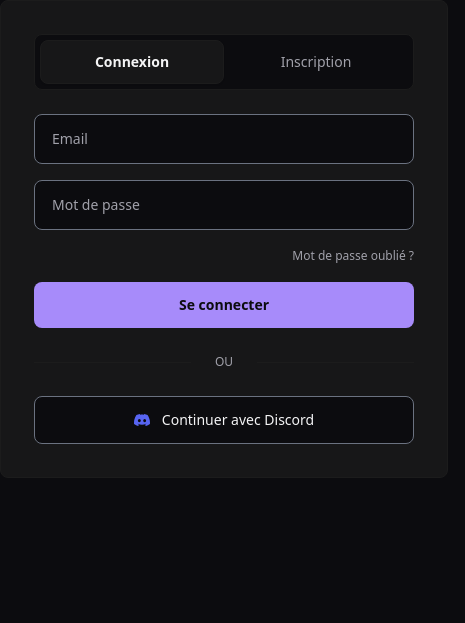
Test: AuthPanel › erreurs accessibles (RGAA 3.1 / 7.4 / 11.10) › bloque l'inscription et alerte si les mots de passe diffèrent, sans appel réseau
The image size is (465, 623).
Click the tab "Inscription".
click(316, 62)  # box top-left (224, 40), bottom-right (408, 84)
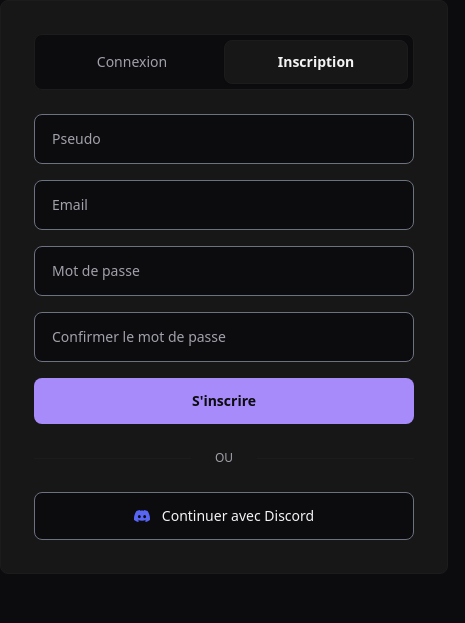
Type "Alex" into the field with id "signup-pseudo".
click(224, 139); type("Alex")  # box top-left (34, 114), bottom-right (414, 164)
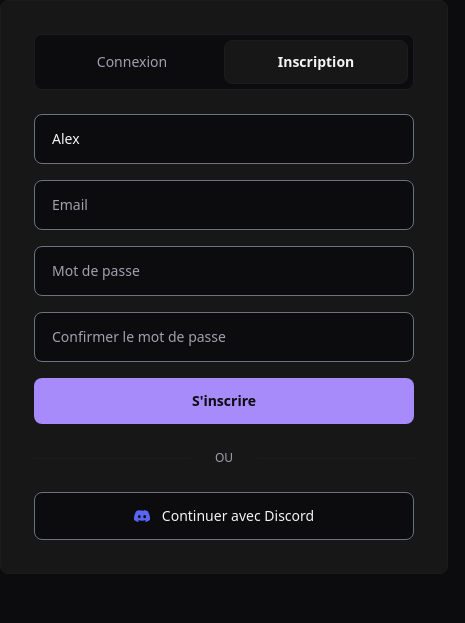
Type "alex@battlemind.gg" into the field with id "signup-email".
click(224, 205); type("alex@battlemind.gg")  # box top-left (34, 180), bottom-right (414, 230)
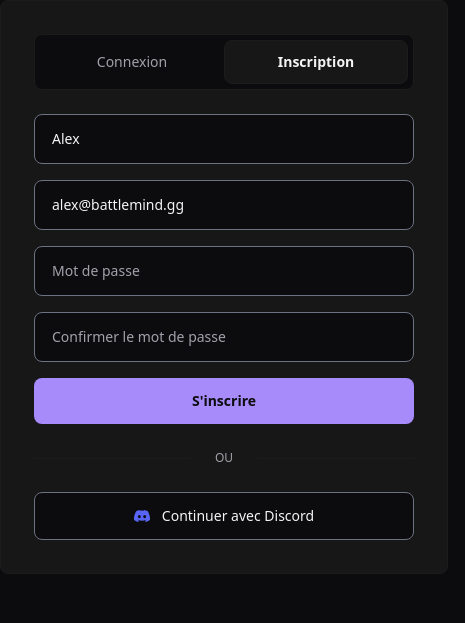
Type "secret123" into the password field with id "signup-password".
click(224, 271); type("secret123")  # box top-left (34, 246), bottom-right (414, 296)
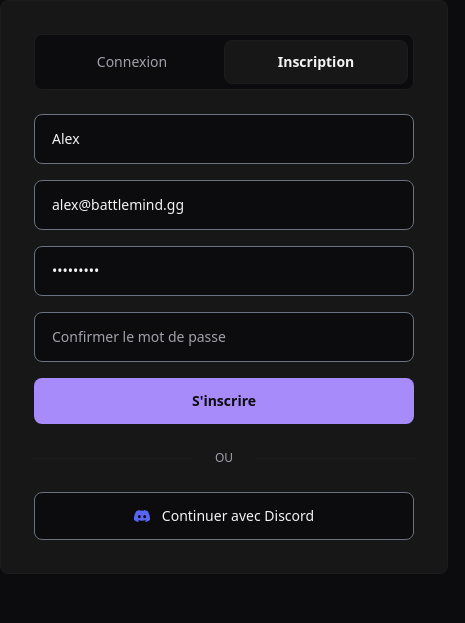
Type "secret124" into the password field with id "signup-password-confirm".
click(224, 337); type("secret124")  # box top-left (34, 312), bottom-right (414, 362)
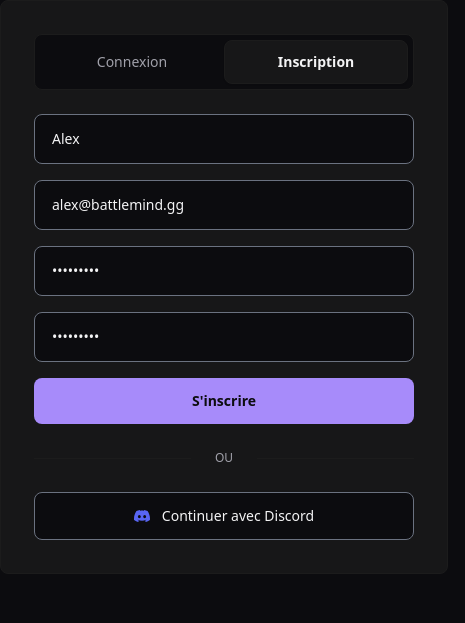
Submit the panel, box top-left (34, 114), bottom-right (414, 424)
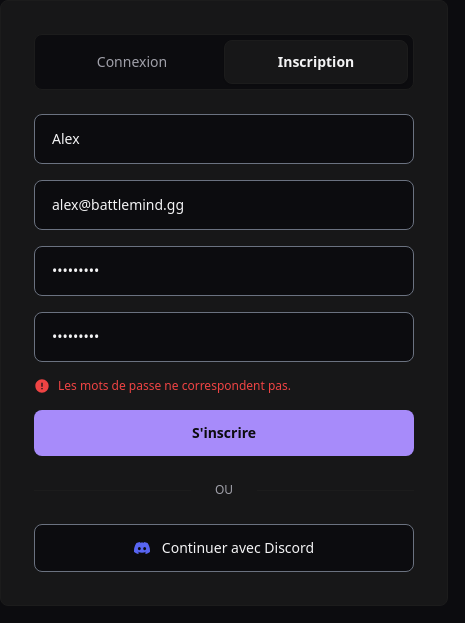
Now the message "Les mots de passe ne correspondent pas." is shown, box top-left (34, 377), bottom-right (291, 394)
